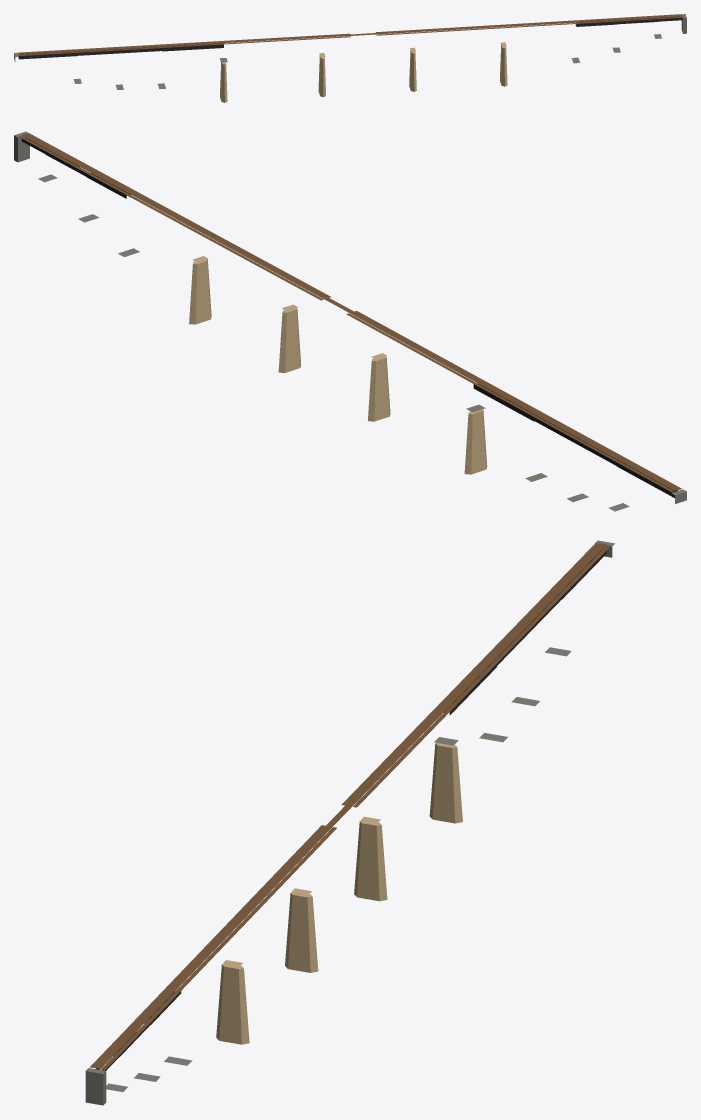
The model's file is br_r22_clover_bar_railway_lod3.gltf.
The picture shows the model from 3 angles, top to bottom: view 1: azimuth 30°, elevation 25°; view 2: azimuth 150°, elevation 25°; view 3: azimuth 270°, elevation 25°; orthographic projection. The views are drawn at different scales.
Parts seen in each view (by area): view 1: br_r22_clover_bar_railway_lod3; view 2: br_r22_clover_bar_railway_lod3; view 3: br_r22_clover_bar_railway_lod3.
Part boxes in pixels (<box>): br_r22_clover_bar_railway_lod3: <box>14,14,686,102</box>; br_r22_clover_bar_railway_lod3: <box>14,131,686,511</box>; br_r22_clover_bar_railway_lod3: <box>85,540,614,1105</box>.
Bounding box in the file's own units: 476 × 47.2 × 200.
